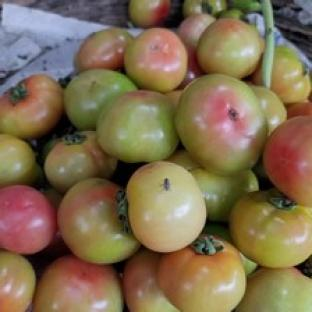Tomato: (176, 74, 267, 174), (126, 162, 206, 252), (58, 179, 140, 264), (158, 234, 246, 311), (229, 189, 311, 267), (97, 90, 179, 162), (33, 255, 123, 311), (44, 131, 118, 193), (65, 69, 136, 130), (264, 116, 311, 206), (0, 74, 64, 139), (124, 27, 186, 91), (0, 186, 57, 254), (197, 19, 261, 79), (190, 168, 259, 222), (123, 248, 178, 311), (236, 268, 311, 311), (74, 27, 133, 72), (271, 46, 310, 104), (0, 251, 36, 311), (0, 134, 37, 186), (251, 85, 286, 135), (176, 44, 204, 90), (177, 13, 215, 45), (166, 148, 200, 169), (202, 222, 233, 245), (286, 99, 311, 118)
